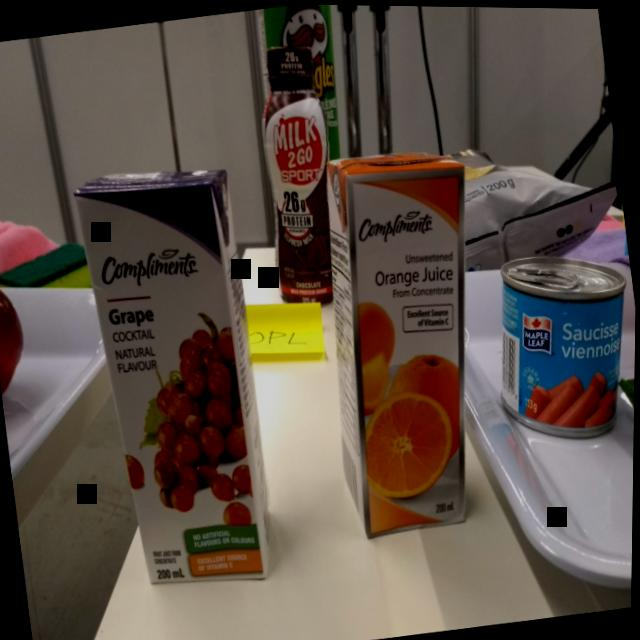chocolate_drink: (242, 34, 358, 313)
grape_juice: (61, 148, 292, 606)
orange_juice: (294, 134, 520, 544)
sausages: (479, 236, 637, 455)
